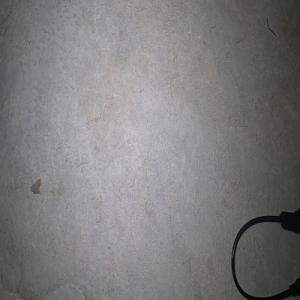Wire: (231, 207, 300, 300)
